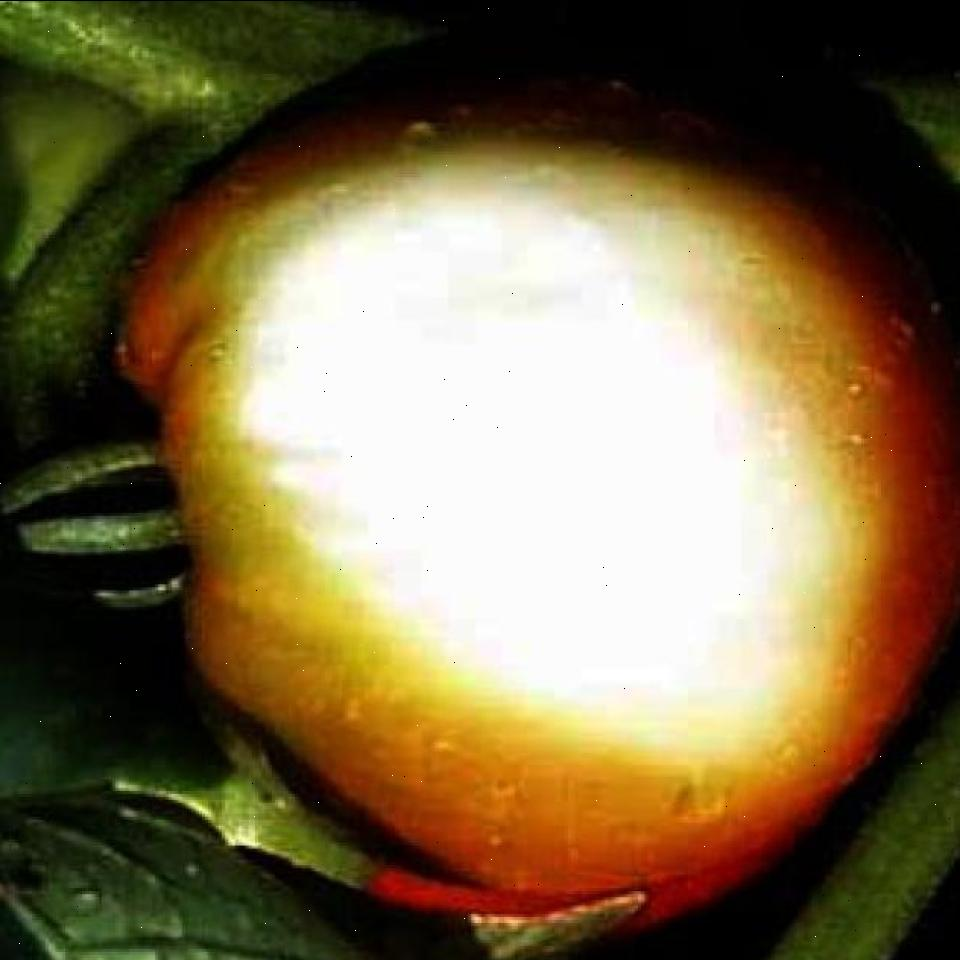Sunscald: (210, 126, 890, 766)
